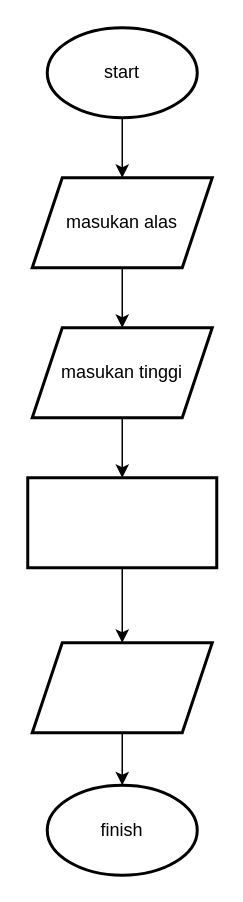
Some shapes in this 243 by 902 pixel diagram are drawn without their labels. The centre of each missing label's shape, as x and y in pixels:
Luas=1/2*(alas*tinggi): [122,522]
tampilkan luas segitiga: [121,687]
